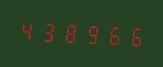eight: (60, 18, 80, 46)
four: (17, 16, 37, 44)
nine: (81, 19, 101, 48)
six: (102, 21, 122, 49), (123, 22, 143, 50)
three: (38, 17, 58, 45)
